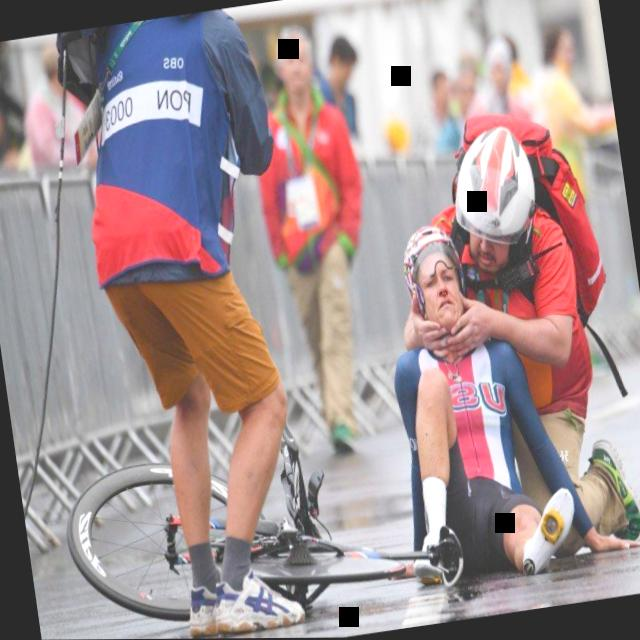Fall-Detected: (343, 182, 640, 611)
